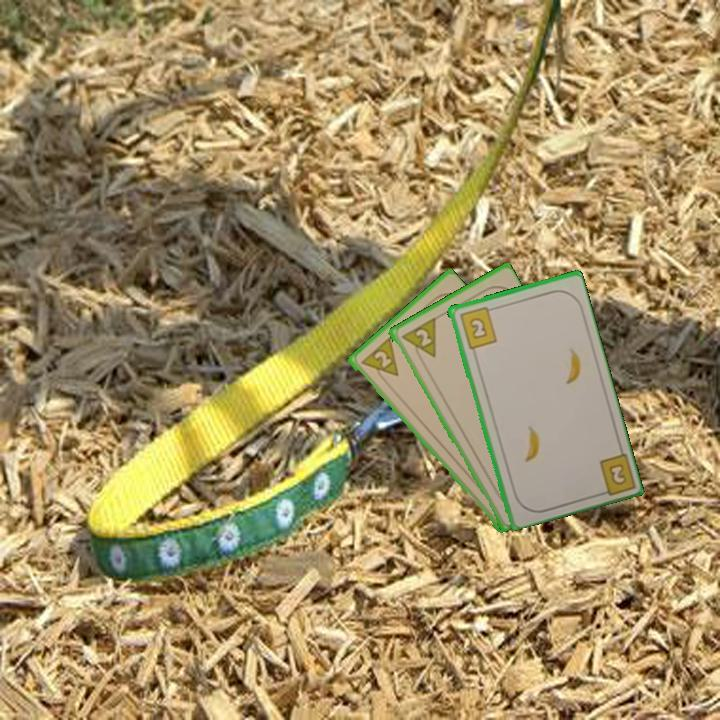2b: (593, 448, 636, 499), (456, 303, 500, 351)
2p: (357, 335, 401, 387), (397, 314, 439, 365)
